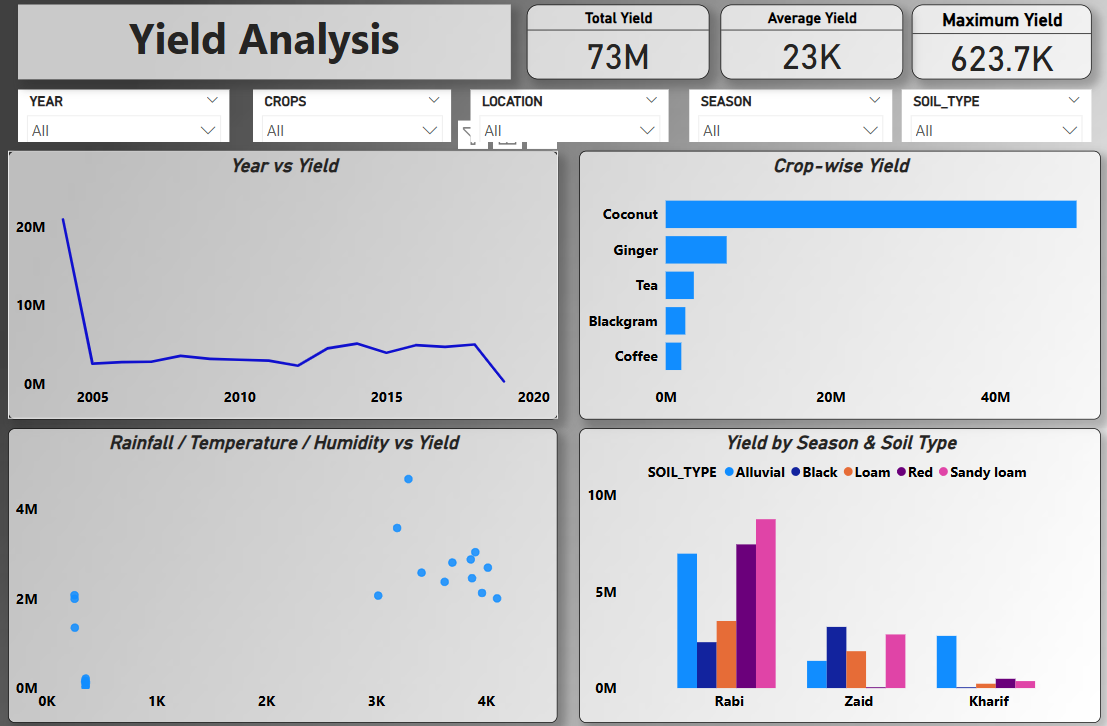

This screenshot's page, from the dashboard's own definition file:
{"tool":"powerbi","page":{"name":"Yield Analysis","canvas":[1280,850],"ordinal":3},"visuals":[{"type":"lineChart","title":"Year vs Yield","fields":{"Category":["AGRICULTURE.YEAR"],"Y":["Sum(AGRICULTURE.YIELDS)"]},"box":[11.4,175.7,628.6,307.1],"z":0},{"type":"barChart","title":"Crop-wise Yield","fields":{"Y":["Sum(AGRICULTURE.YIELDS)"],"Category":["AGRICULTURE.CROPS"]},"box":[664.3,175.7,595.7,307.1],"z":1000},{"type":"scatterChart","title":"Rainfall / Temperature / Humidity vs Yield","fields":{"Y":["Sum(AGRICULTURE.YIELDS)"],"X":["AGRICULTURE.RAINFALL","AGRICULTURE.Temperature_C","AGRICULTURE.HUMIDITY"]},"box":[11.4,492.9,628,337.1],"z":2000},{"type":"clusteredColumnChart","title":"Yield by Season & Soil Type","fields":{"Category":["AGRICULTURE.SEASON"],"Y":["Sum(AGRICULTURE.YIELDS)"],"Series":["AGRICULTURE.SOIL_TYPE"]},"box":[664.3,492.9,595.7,337.1],"z":3000},{"type":"slicer","fields":{"Values":["AGRICULTURE.YEAR"]},"box":[23.3,105,241.7,60],"z":4000},{"type":"card","title":"Total Yield","fields":{"Values":["Sum(AGRICULTURE.YIELDS)"]},"box":[604.3,8.6,208.6,85.7],"z":5000},{"type":"card","title":"Maximum Yield","fields":{"Values":["Max(AGRICULTURE.YIELDS)"]},"box":[1044.3,8.6,205.7,85.7],"z":6000},{"type":"slicer","fields":{"Values":["AGRICULTURE.CROPS"]},"box":[291.7,105,226.7,60],"z":7000},{"type":"slicer","fields":{"Values":["AGRICULTURE.LOCATION"]},"box":[540,105,226.7,60],"z":8000},{"type":"slicer","fields":{"Values":["AGRICULTURE.SEASON"]},"box":[790,105,231.7,60],"z":9000},{"type":"textbox","box":[22.9,8.6,562.9,85.7],"z":10000},{"type":"card","title":"Average Yield","fields":{"Values":["Avg(AGRICULTURE.YIELDS)"]},"box":[825.7,8.6,208.6,85.7],"z":11000},{"type":"slicer","fields":{"Values":["AGRICULTURE.SOIL_TYPE"]},"box":[1033.3,105,216.7,60],"z":12000}]}

Visuals, with their boxes in screenshot pixels (x1, y1, x2, y2), scaled from the page's 1280x850 canvas onto the 1107x726 screenshot:
"Year vs Yield" lineChart: [10,150,554,412]
"Crop-wise Yield" barChart: [575,150,1090,412]
"Rainfall / Temperature / Humidity vs Yield" scatterChart: [10,421,553,709]
"Yield by Season & Soil Type" clusteredColumnChart: [575,421,1090,709]
slicer - AGRICULTURE.YEAR: [20,90,229,141]
"Total Yield" card: [523,7,703,81]
"Maximum Yield" card: [903,7,1081,81]
slicer - AGRICULTURE.CROPS: [252,90,448,141]
slicer - AGRICULTURE.LOCATION: [467,90,663,141]
slicer - AGRICULTURE.SEASON: [683,90,884,141]
textbox: [20,7,507,81]
"Average Yield" card: [714,7,895,81]
slicer - AGRICULTURE.SOIL_TYPE: [894,90,1081,141]
